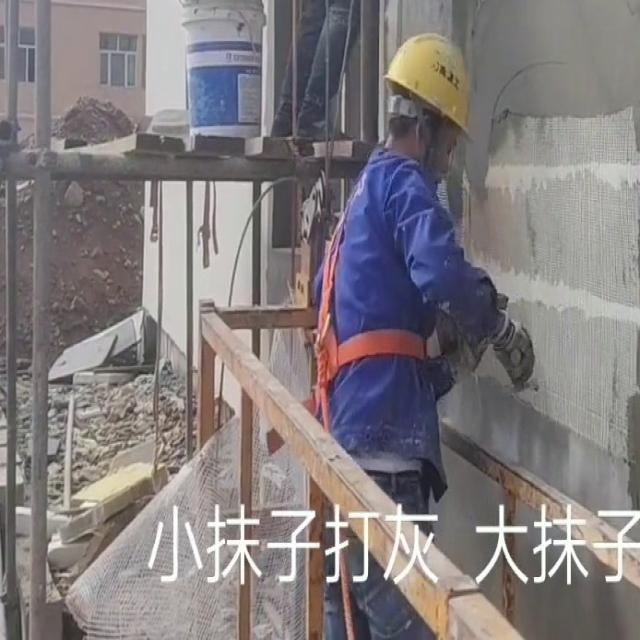Arnes_seguridad: (308, 145, 439, 400)
